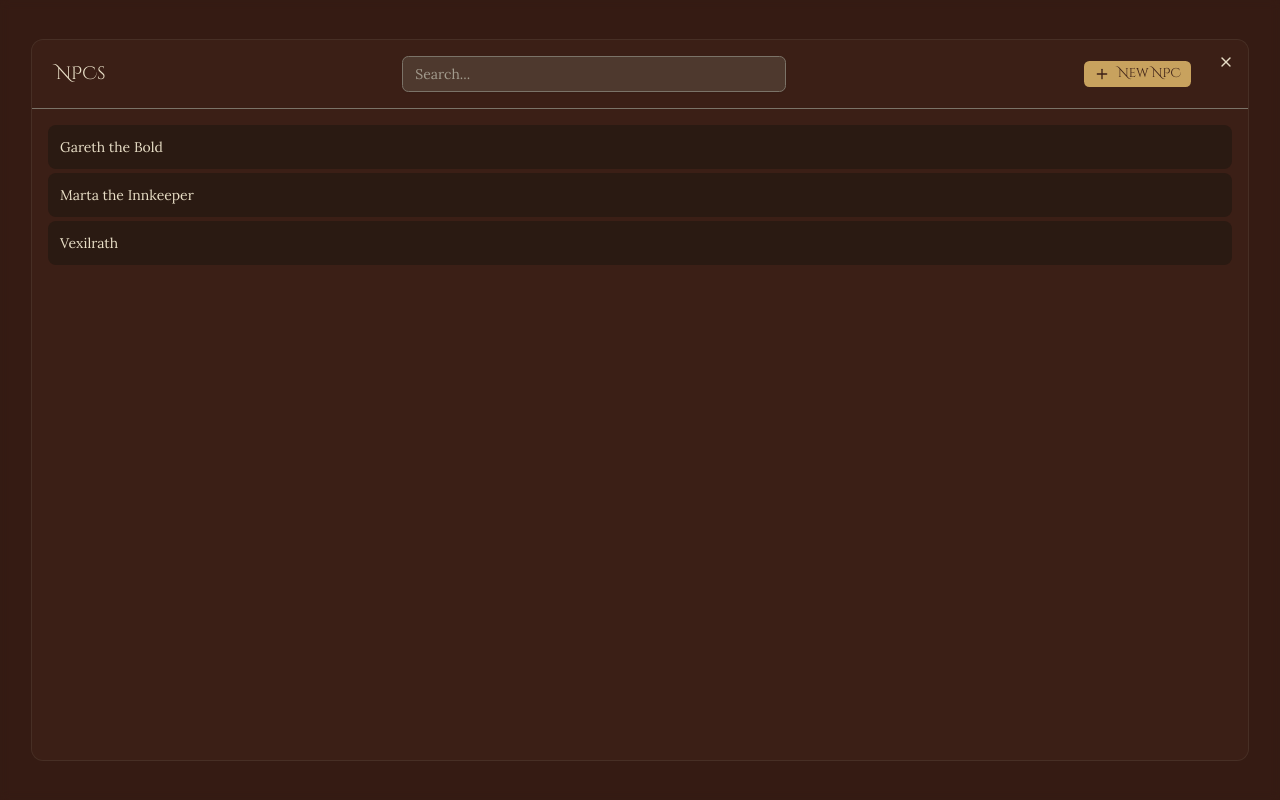
Test: MasterDetailModal — Search › filters items by name (case-insensitive) as user types
The width and height of the screenshot is (1280, 800).
Type "marta" into the search field with placeholder "Search...".
click(594, 74); type("marta")  # box [402, 56, 786, 92]
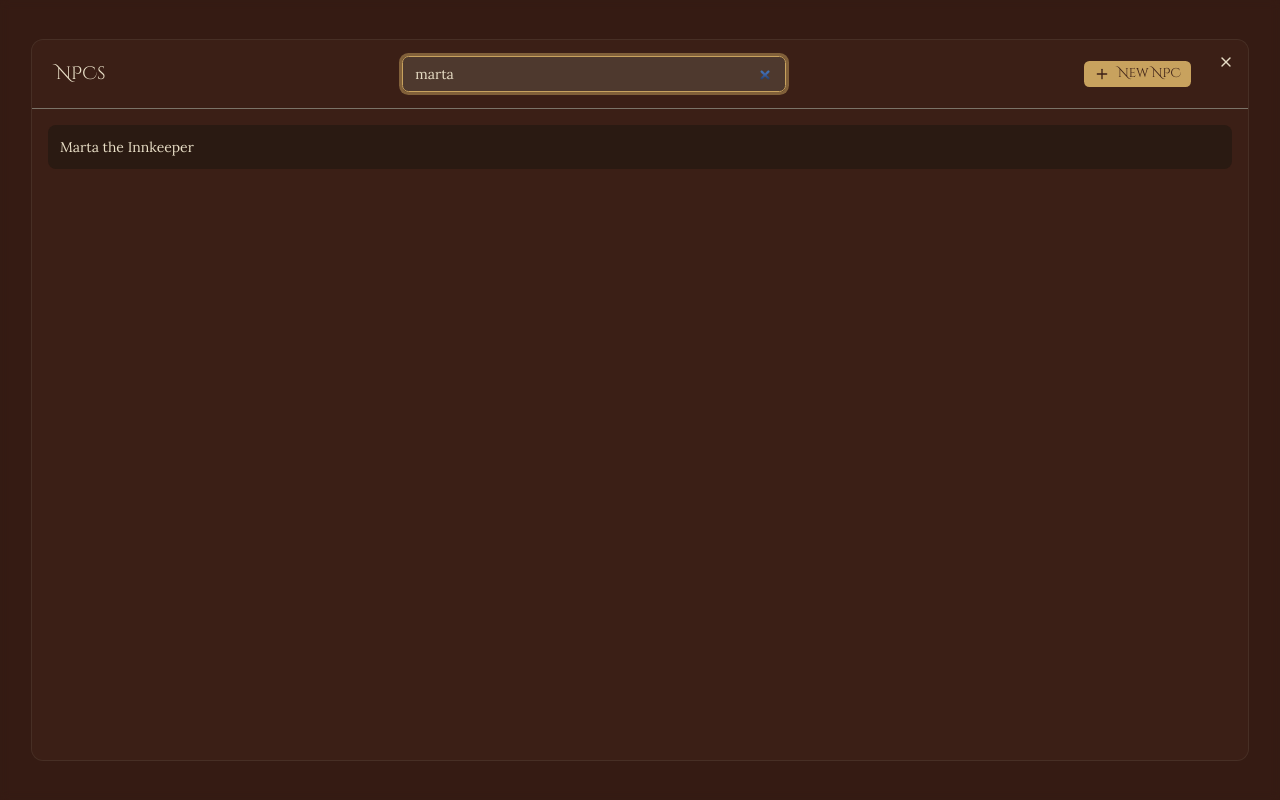
Check: the text "Marta the Innkeeper" is shown, box [60, 138, 194, 156]
Check: the text "Gareth the Bold" is gone
Check: the text "Vexilrath" is gone
